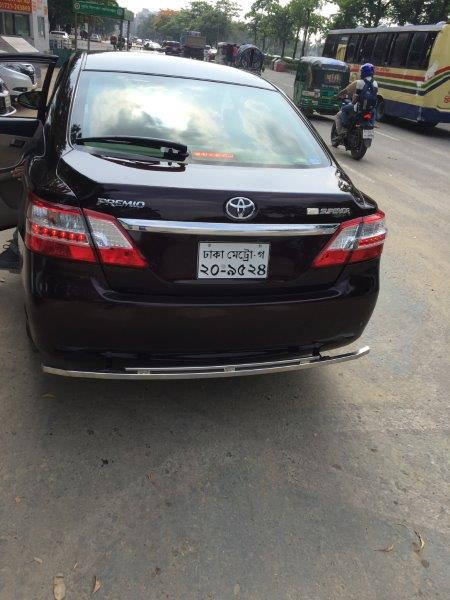car: (21, 48, 391, 379)
motorbike: (325, 94, 382, 163)
three wheelers (cng): (291, 52, 349, 116)
